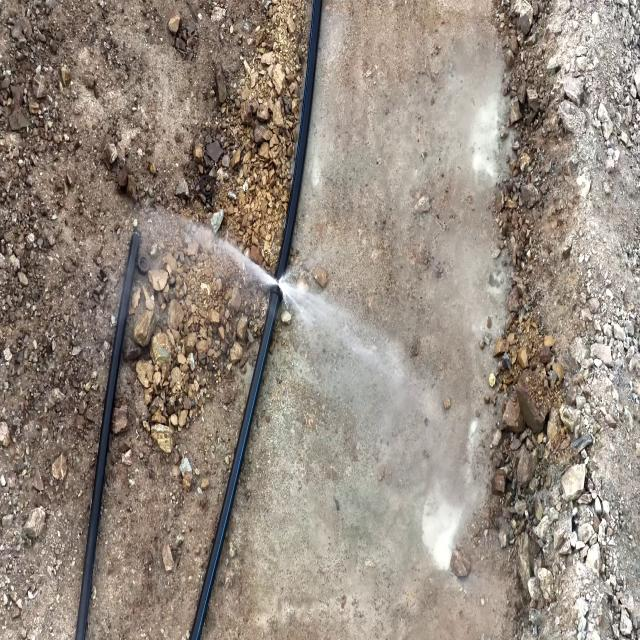leak: (161, 208, 353, 360)
